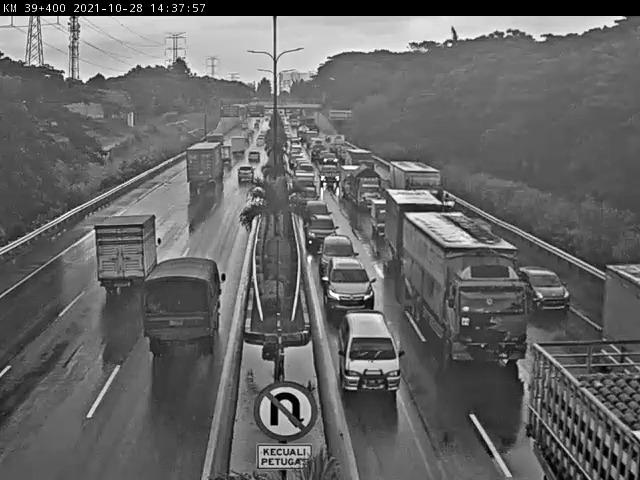big truck: (397, 205, 539, 355), (516, 325, 640, 480), (168, 125, 230, 213)
car: (319, 257, 390, 303), (512, 262, 571, 308), (316, 229, 360, 263), (304, 213, 343, 247), (301, 198, 336, 220), (229, 170, 259, 190), (246, 148, 266, 165)
small bus: (131, 250, 233, 396), (338, 305, 402, 395)
small truck: (75, 211, 166, 327)
